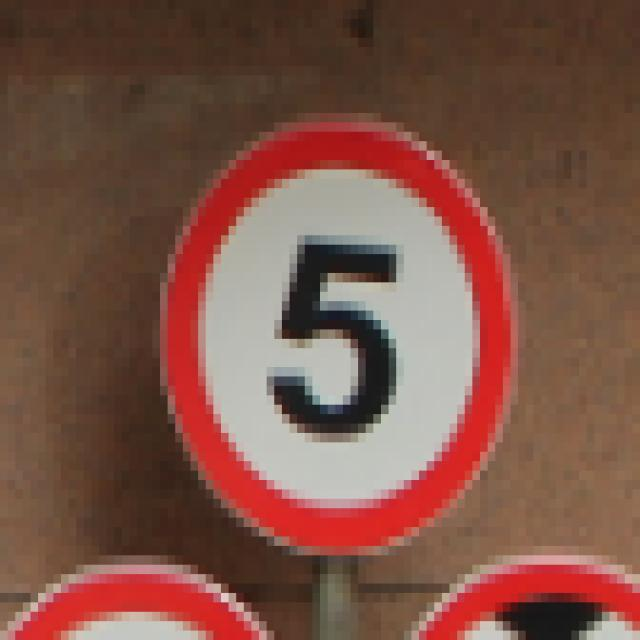Speed: (152, 83, 530, 557)
